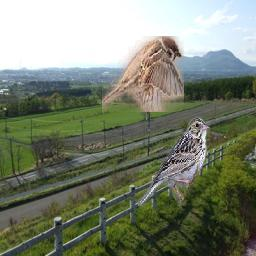Sparrow: (138, 116, 210, 206), (102, 36, 184, 112)
